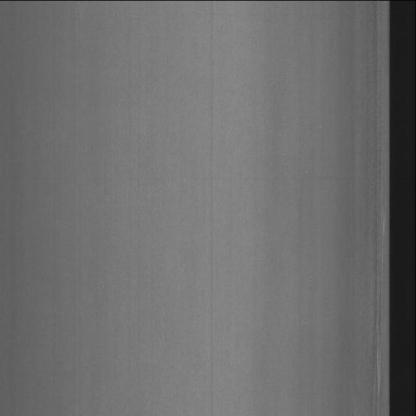silk_spot: (358, 202, 387, 396)
